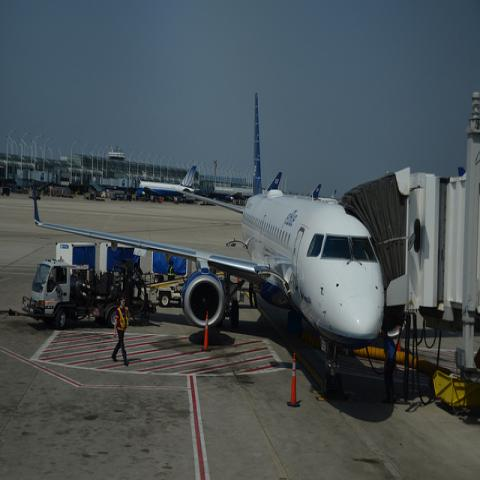truck: (22, 254, 158, 330)
